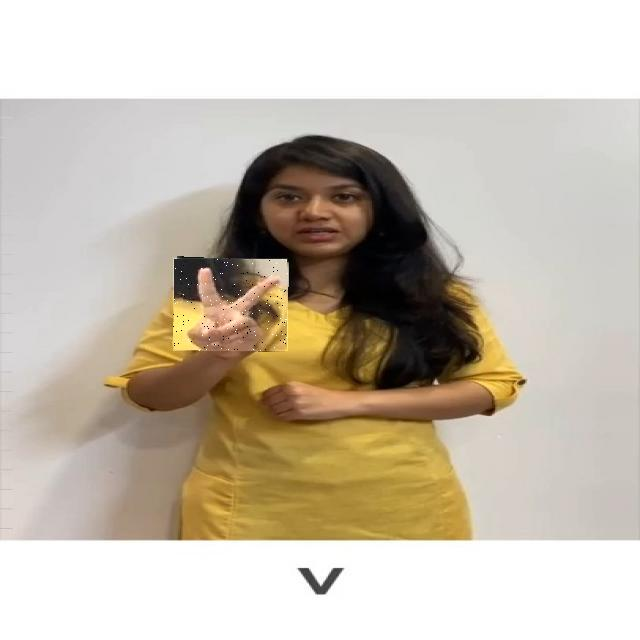V: (173, 258, 288, 351)
